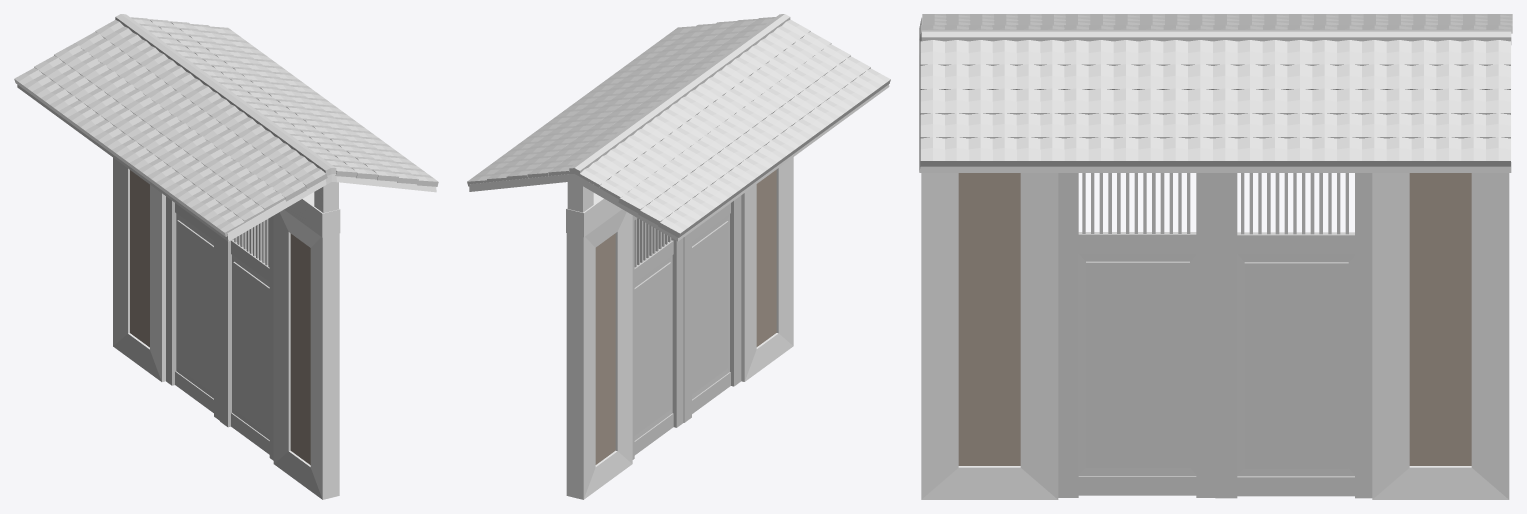
Rendered from templegate.fbx.
3 renders of one model, left to right at view 1: azimuth 30°, elevation 25°; view 2: azimuth 150°, elevation 25°; view 3: azimuth 270°, elevation 25°, orthographic. The views are drawn at different scales.
Visible parts, largest first — view 1: templegate.248, templegate.269, templegate.254; view 2: templegate.248, templegate.254, templegate.269; view 3: templegate.248, templegate.254, templegate.269.
Boxes of the visible parts, x1,y1,x2,y2 form: templegate.248: [14, 14, 438, 499]; templegate.269: [220, 216, 273, 460]; templegate.254: [166, 196, 219, 420]; templegate.248: [467, 14, 890, 499]; templegate.254: [632, 215, 683, 459]; templegate.269: [683, 195, 741, 422]; templegate.248: [919, 14, 1512, 499]; templegate.254: [1215, 173, 1372, 498]; templegate.269: [1058, 173, 1215, 497].
Size of the model in its own units: 129 by 190 by 221.
